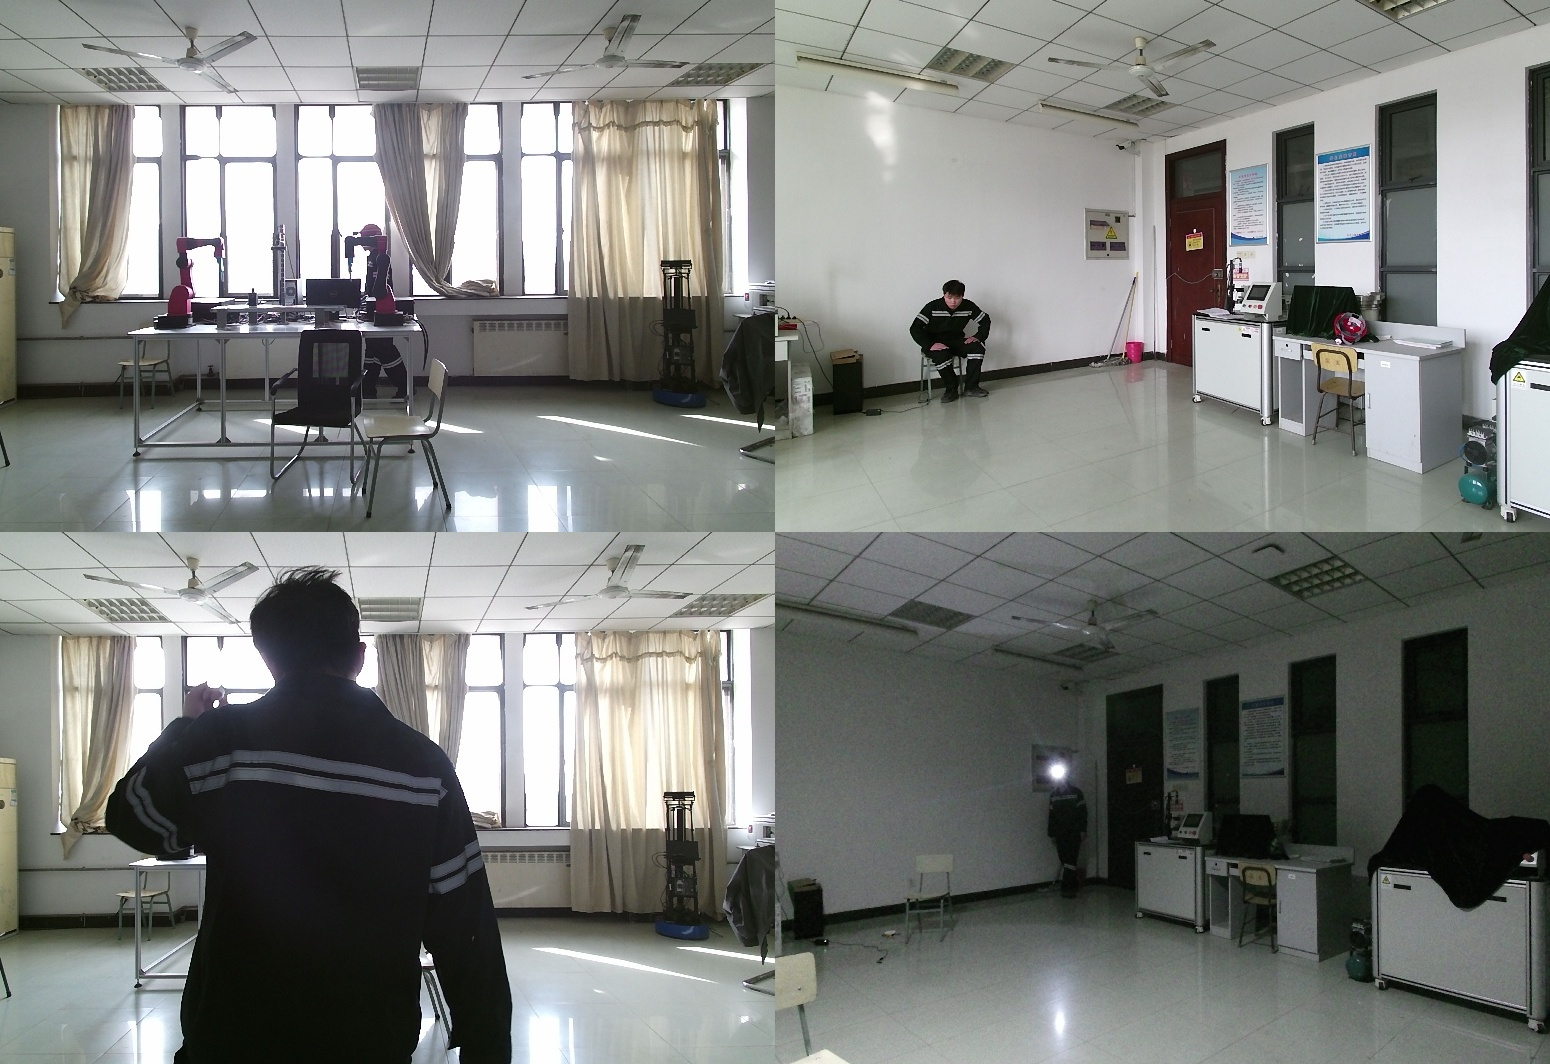person: (112, 573, 511, 1064), (352, 224, 416, 403), (908, 279, 990, 407), (1040, 769, 1088, 899)
